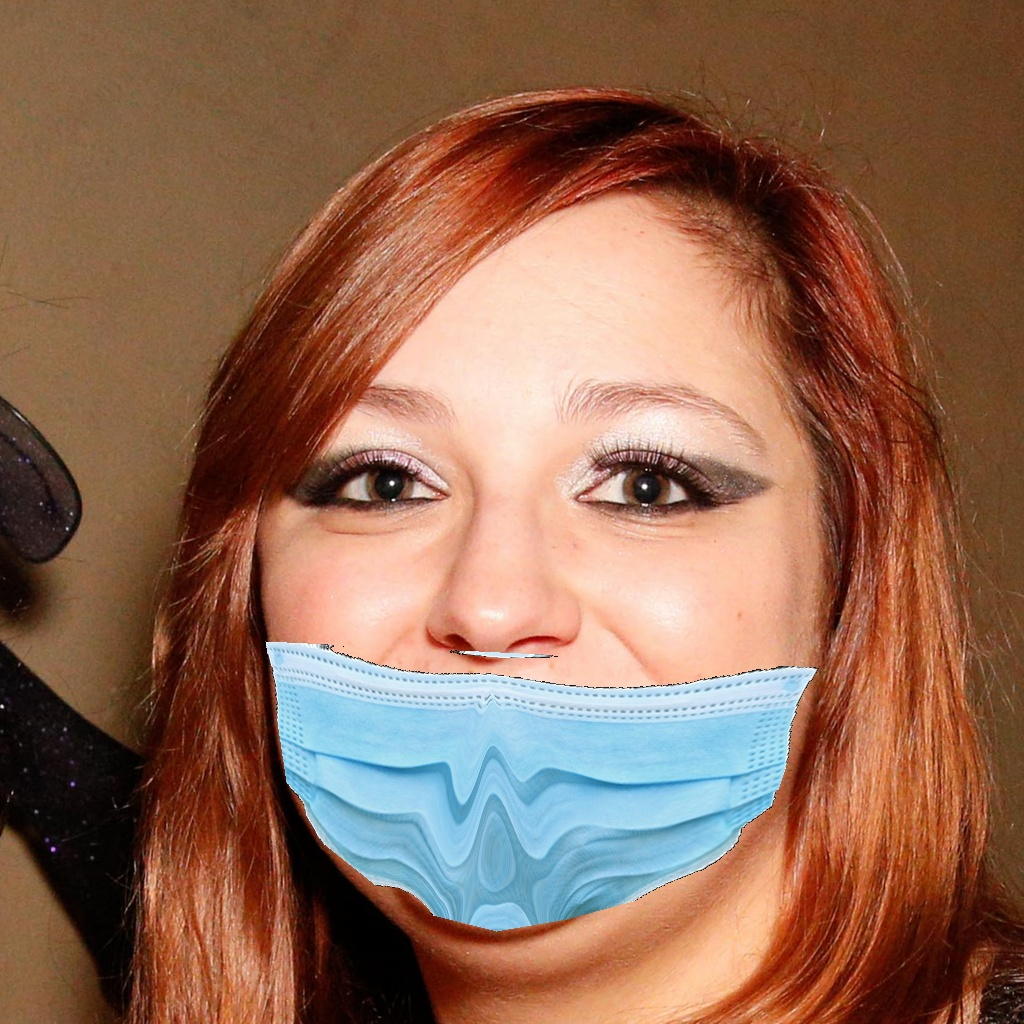mask_weared_incorrect: (213, 368, 832, 950)
